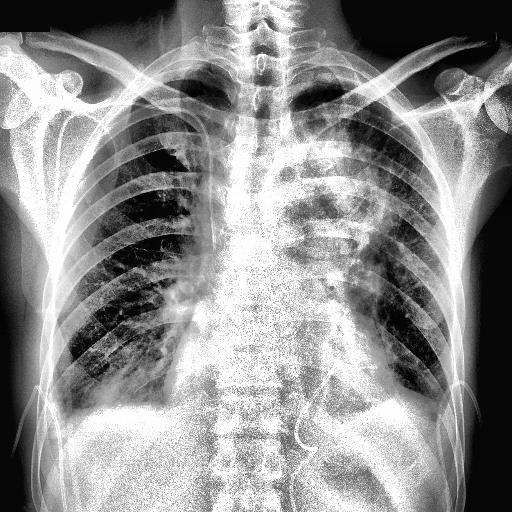10- Pleural effusion: (44, 399, 142, 438), (376, 404, 454, 430), (43, 383, 73, 437), (44, 382, 75, 426), (424, 378, 456, 420), (436, 388, 456, 424)
11- Pleural thickening: (44, 382, 75, 426), (424, 378, 456, 420), (436, 388, 456, 424)
3- Cardiomegaly: (159, 318, 399, 416)
4- Consolidation: (286, 129, 388, 251)
7- Lung Opacity: (276, 122, 386, 268), (286, 129, 388, 251), (94, 332, 171, 406), (94, 364, 134, 408)
8- Nodule-Mass: (260, 128, 392, 272), (276, 122, 386, 268)
